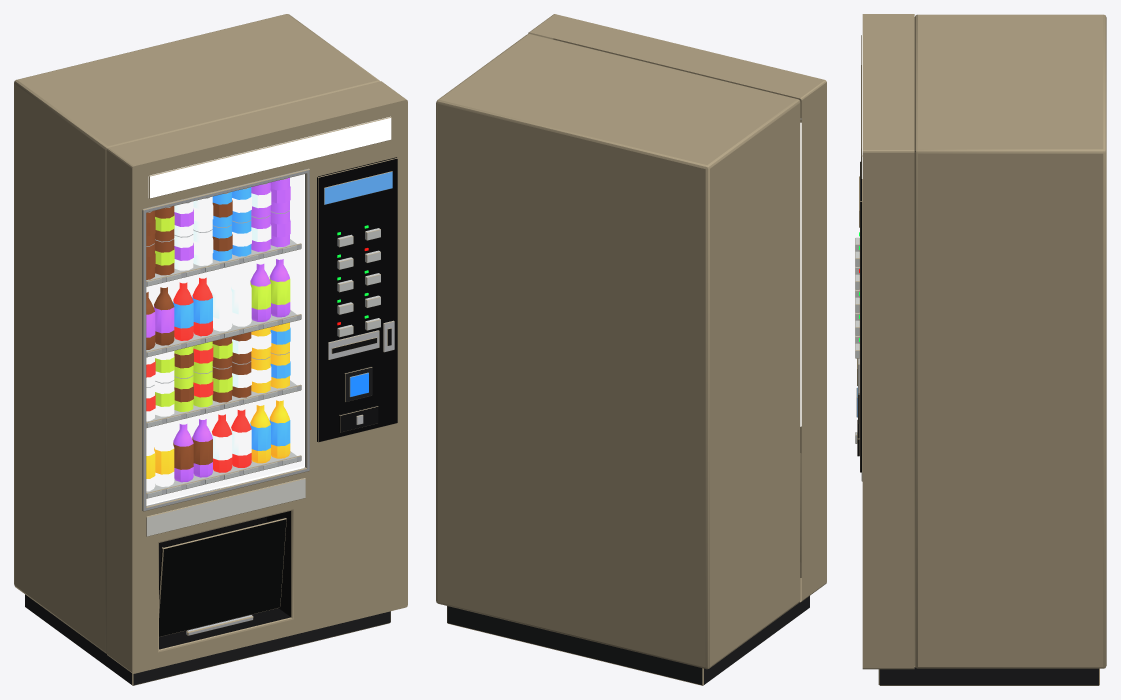
The model's file is gteki_vending_machine_sand.glb.
3 views of the same model, side by side, from view 1: azimuth 30°, elevation 25°; view 2: azimuth 150°, elevation 25°; view 3: azimuth 270°, elevation 25° (orthographic). The views are drawn at different scales.
Visible parts, largest first — view 1: VIS_body, VIS_fascia, VIS_drinks, VIS_controls, VIS_trim, VIS_pickup, VIS_window; view 2: VIS_body, VIS_fascia; view 3: VIS_body, VIS_fascia, VIS_controls.
Part boxes in pixels (left/top/right/bottom): VIS_body: left=14, top=14, right=390, bottom=685; VIS_fascia: left=106, top=81, right=407, bottom=673; VIS_drinks: left=146, top=177, right=290, bottom=491; VIS_controls: left=317, top=157, right=397, bottom=442; VIS_trim: left=142, top=116, right=391, bottom=536; VIS_pickup: left=159, top=516, right=286, bottom=636; VIS_window: left=146, top=239, right=301, bottom=498; VIS_body: left=436, top=34, right=809, bottom=685; VIS_fascia: left=528, top=14, right=826, bottom=602; VIS_body: left=878, top=14, right=1106, bottom=685; VIS_fascia: left=862, top=14, right=914, bottom=669; VIS_controls: left=855, top=161, right=862, bottom=472.
Size of what is drawn, in the model's own units: 1 by 1.83 by 0.772.
